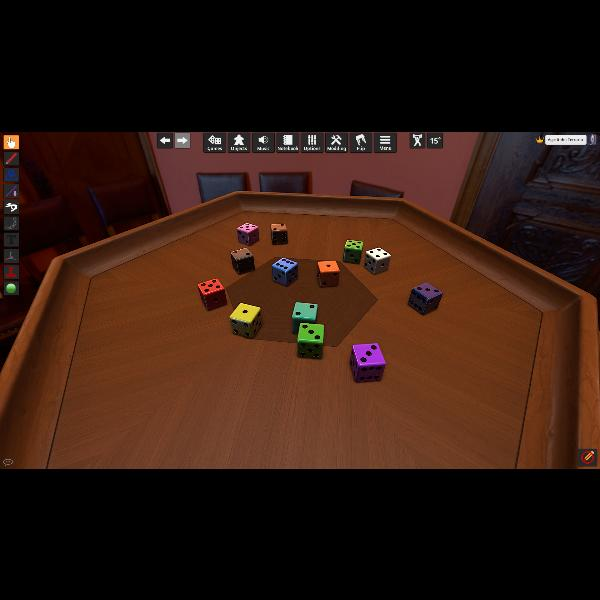d6: (350, 342, 382, 380), (230, 304, 262, 338), (409, 282, 441, 314), (198, 278, 226, 312), (297, 323, 325, 357), (292, 302, 318, 334), (272, 258, 298, 286), (364, 246, 390, 274), (230, 248, 254, 274), (317, 260, 339, 286), (237, 222, 259, 246), (343, 238, 363, 264), (270, 223, 288, 245)
